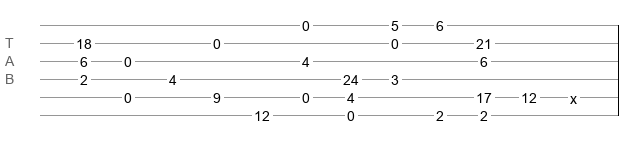0: (124, 54, 132, 64), (124, 90, 132, 100), (213, 36, 221, 46), (302, 90, 310, 100), (302, 18, 310, 28), (347, 108, 355, 118), (391, 36, 399, 46)
12: (254, 108, 270, 118), (521, 90, 537, 100)
17: (476, 90, 492, 100)
18: (76, 36, 92, 46)
2: (80, 72, 88, 82), (436, 108, 444, 118), (480, 108, 488, 118)
21: (476, 36, 492, 46)
24: (343, 72, 359, 82)
3: (391, 72, 399, 82)
4: (169, 72, 177, 82), (302, 54, 310, 64), (347, 90, 355, 100)
5: (391, 18, 399, 28)
6: (80, 54, 88, 64), (436, 18, 444, 28), (480, 54, 488, 64)
9: (213, 90, 221, 100)
x: (570, 91, 577, 99)
